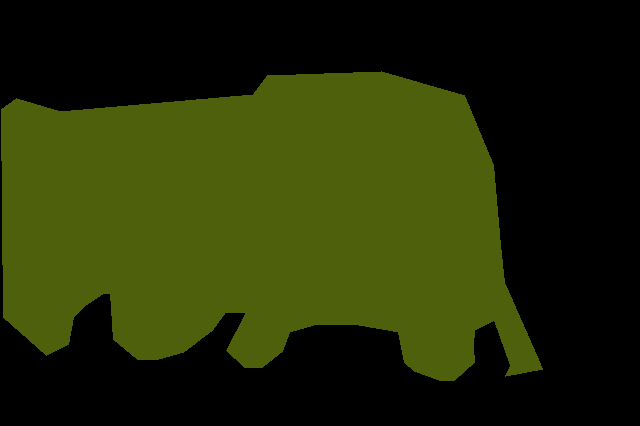Train: (1, 71, 542, 381)
